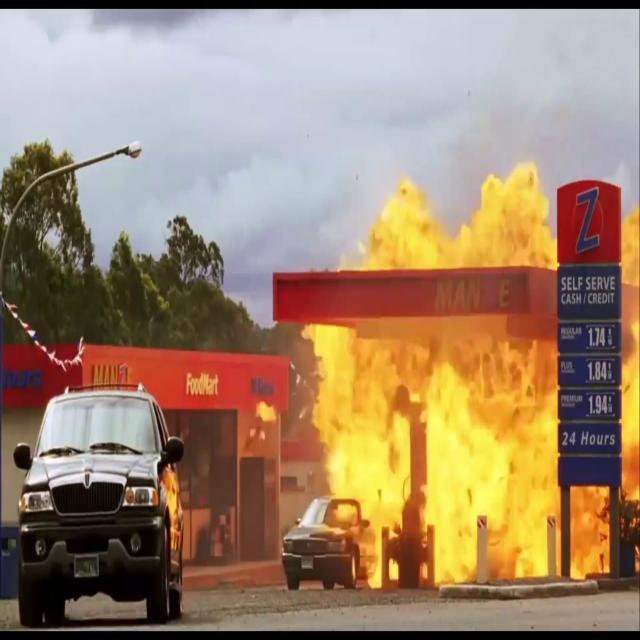fire: (297, 324, 559, 582), (349, 154, 554, 264)
